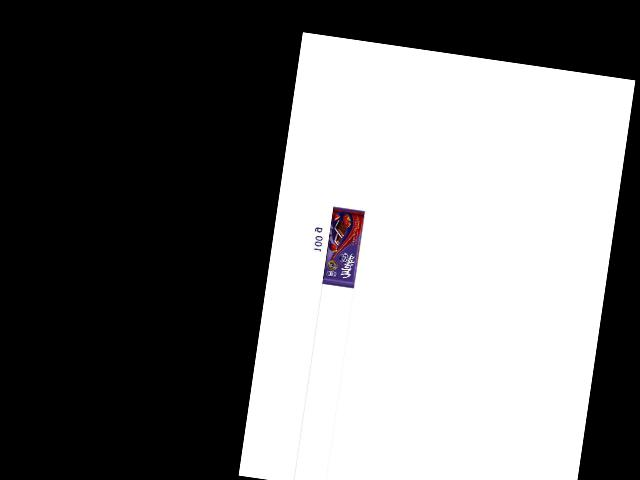chocolate: (318, 205, 365, 288)
